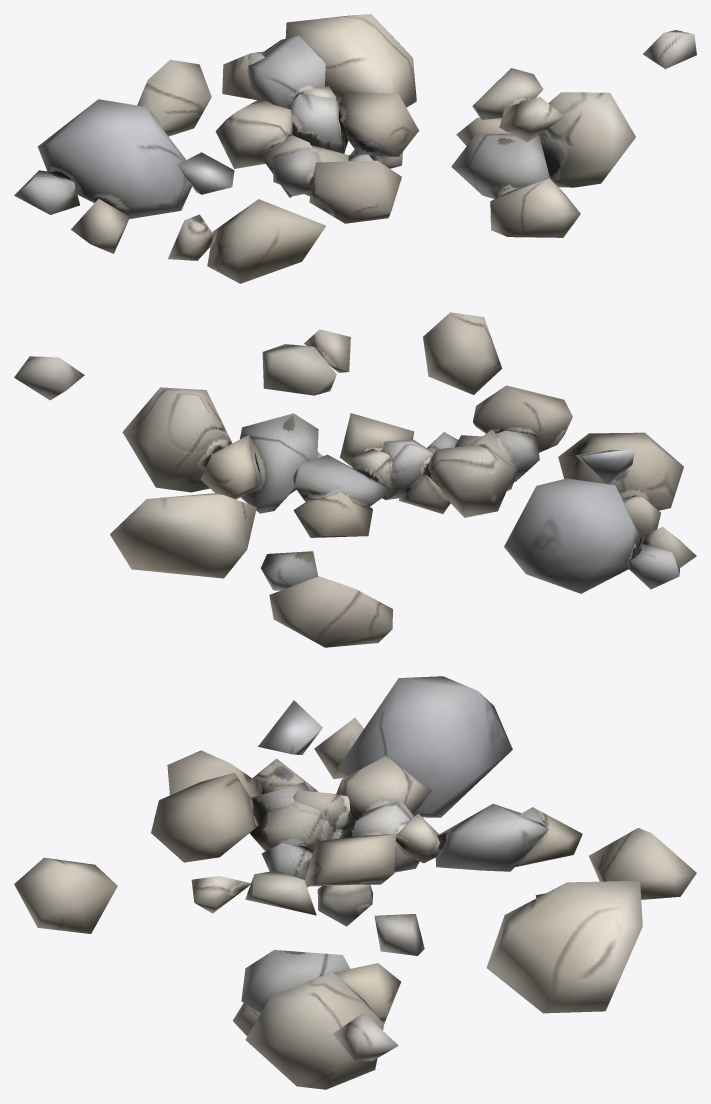
Rendered from gravel.glb.
3 views of the same model, one above another, from view 1: azimuth 30°, elevation 25°; view 2: azimuth 150°, elevation 25°; view 3: azimuth 270°, elevation 25° (orthographic). The views are drawn at different scales.
Visible parts, largest first — view 1: tint_stones; view 2: tint_stones; view 3: tint_stones.
Boxes of the visible parts, box(x1,y1,x2,y2) form: tint_stones: box(14, 14, 696, 283); tint_stones: box(14, 312, 696, 647); tint_stones: box(14, 676, 696, 1089).
Size of the model in its own units: 0.5617 by 0.1113 by 0.4389.
Materials: 1 (1 with a texture image).
